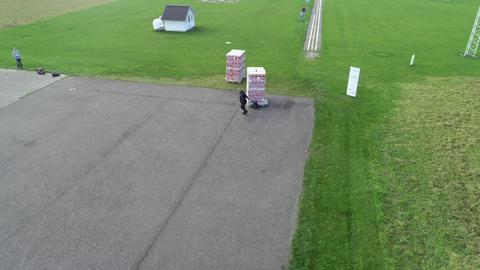RockwoolPallet: (225, 47, 246, 87)
